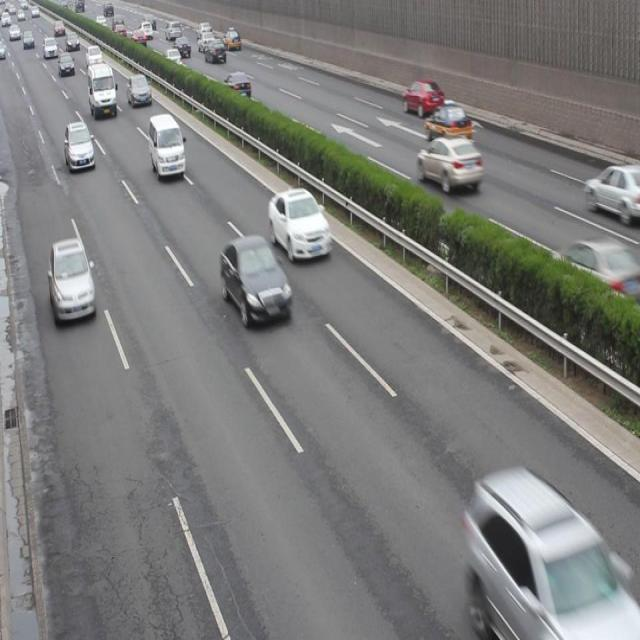car: (466, 469, 618, 640), (219, 235, 292, 327), (552, 238, 628, 307), (268, 185, 332, 262), (49, 235, 96, 328), (415, 132, 482, 192), (584, 162, 640, 218), (423, 101, 472, 142), (401, 76, 443, 117), (64, 119, 95, 173), (222, 72, 250, 102)
truck: (148, 113, 186, 179)
